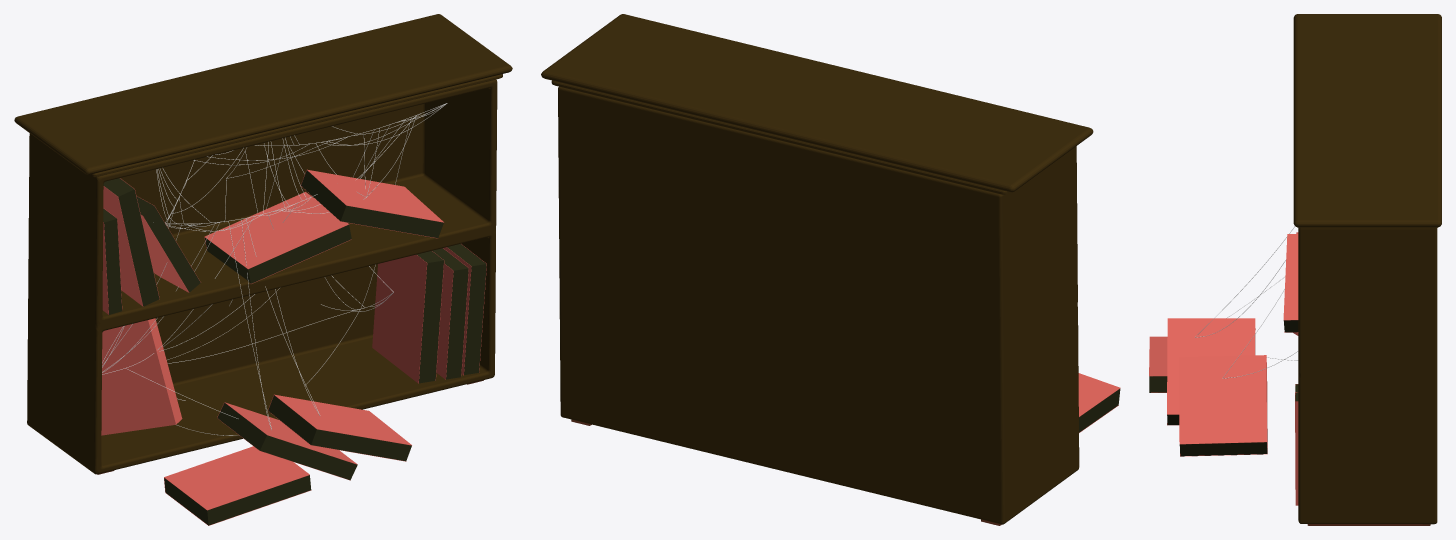
File: bookshelf_abandoned.glb
The picture shows the model from 3 angles, left to right: view 1: azimuth 30°, elevation 25°; view 2: azimuth 150°, elevation 25°; view 3: azimuth 270°, elevation 25°; orthographic projection. The views are drawn at different scales.
Visible parts, largest first — view 1: bookshelf_abandoned; view 2: bookshelf_abandoned; view 3: bookshelf_abandoned.
Boxes of the visible parts, <box> form: bookshelf_abandoned: <box>14,14,512,525</box>; bookshelf_abandoned: <box>541,14,1120,525</box>; bookshelf_abandoned: <box>1149,14,1441,525</box>.
Size of the model in its own units: 2.25 by 1.59 by 1.33.
